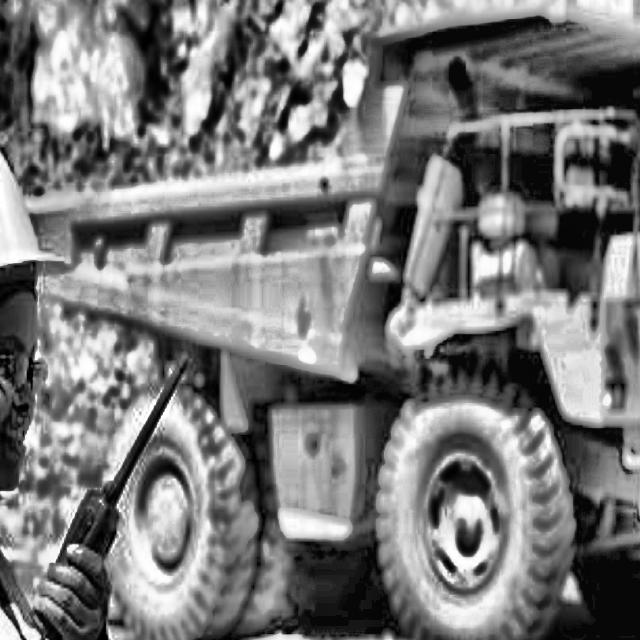dump_truck: (35, 0, 640, 640)
